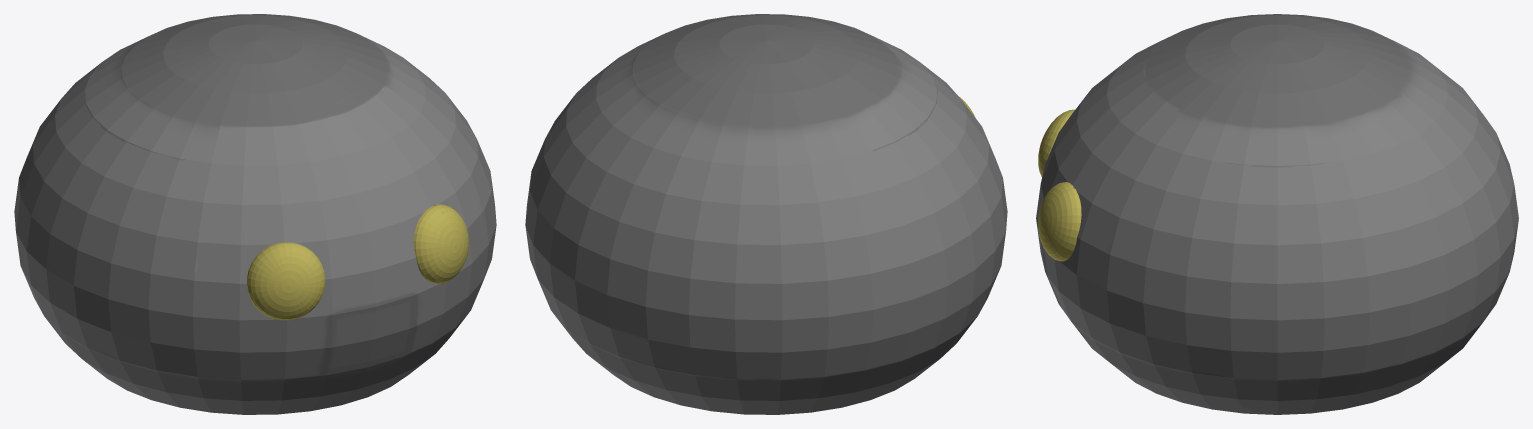
File: playerHead.obj
3 views of the same model, side by side, from view 1: azimuth 30°, elevation 25°; view 2: azimuth 150°, elevation 25°; view 3: azimuth 270°, elevation 25° (orthographic).
Parts seen in each view (by area): view 1: 球; view 2: 球; view 3: 球.
Part boxes in pixels (<box>): 球: <box>14,14,496,414</box>; 球: <box>525,14,1007,414</box>; 球: <box>1036,14,1518,414</box>.
Bounding box in the file's own units: 1.34 × 0.9212 × 1.34.
Materials: 1 (1 with a texture image).
